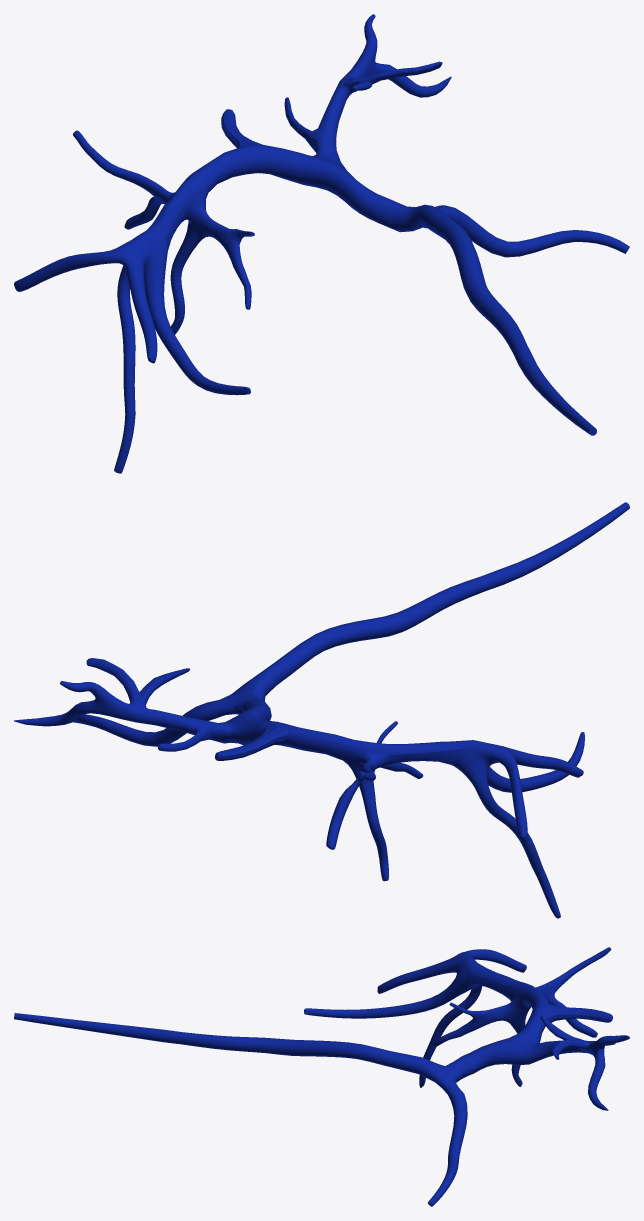
Rendered from Portal_Vein.fbx.
3 views of the same model, one above another, from view 1: azimuth 30°, elevation 25°; view 2: azimuth 150°, elevation 25°; view 3: azimuth 270°, elevation 25° (orthographic). The views are drawn at different scales.
Visible parts, largest first — view 1: Portal_Vein; view 2: Portal_Vein; view 3: Portal_Vein.
Boxes of the visible parts, left/top/right/bottom form: Portal_Vein: left=14, top=14, right=629, bottom=473; Portal_Vein: left=14, top=502, right=629, bottom=918; Portal_Vein: left=14, top=947, right=629, bottom=1206.
Bounding box in the file's own units: 194 × 87.57 × 252.
